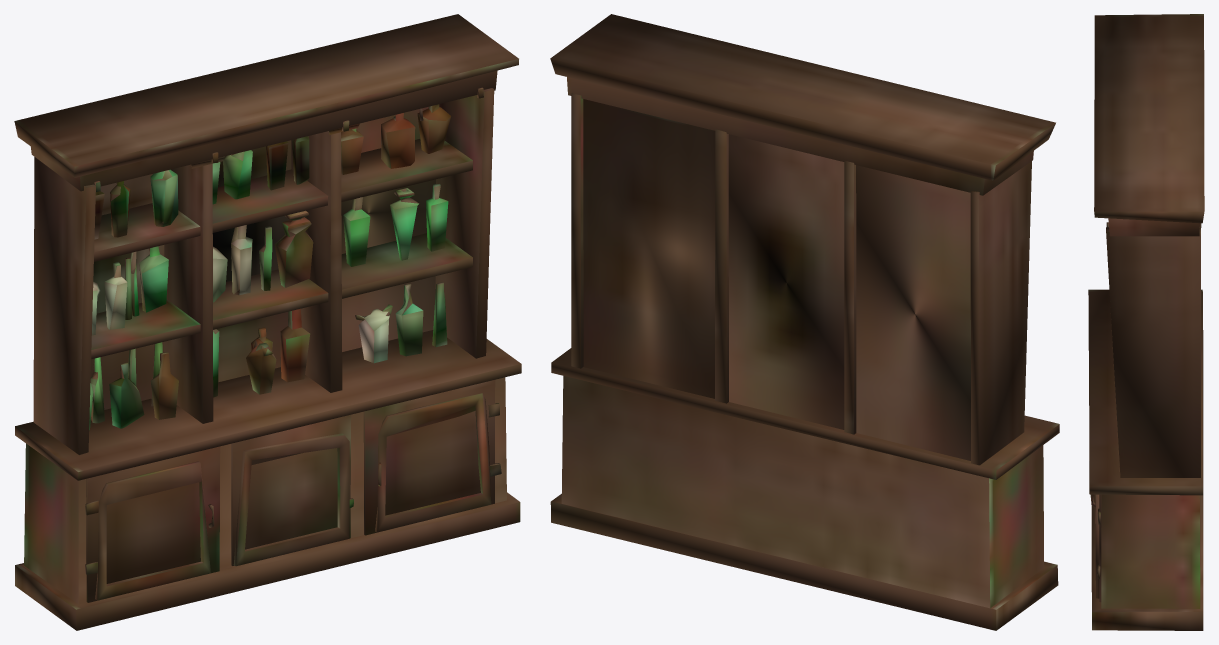
File: back-bar.lod2.glb
3 renders of one model, left to right at view 1: azimuth 30°, elevation 25°; view 2: azimuth 150°, elevation 25°; view 3: azimuth 270°, elevation 25°, orthographic. The views are drawn at different scales.
Size of the model in its own units: 2 by 2 by 0.5.
Materials: 1 (1 with a texture image).
